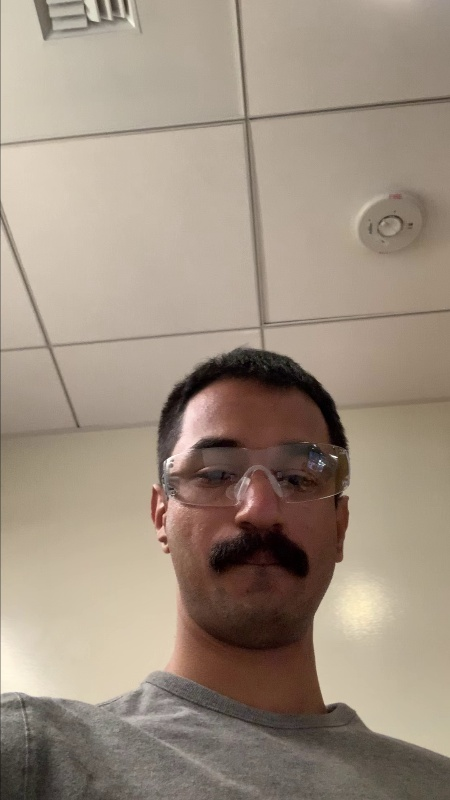glasses: (159, 440, 357, 516)
